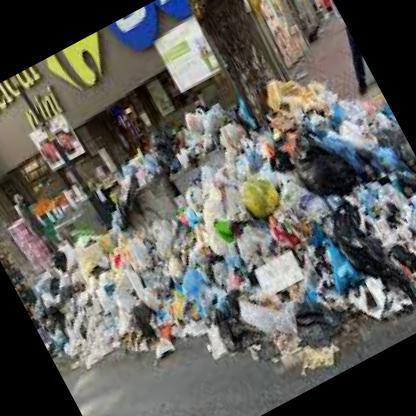Garbage: (210, 45, 415, 367), (8, 162, 282, 390), (98, 100, 229, 190), (282, 121, 367, 218), (248, 322, 326, 404), (224, 158, 290, 219), (162, 246, 223, 306), (128, 310, 181, 374), (310, 231, 360, 293), (182, 317, 228, 377), (113, 233, 166, 283), (382, 235, 415, 310), (176, 102, 219, 140), (146, 126, 181, 164)
